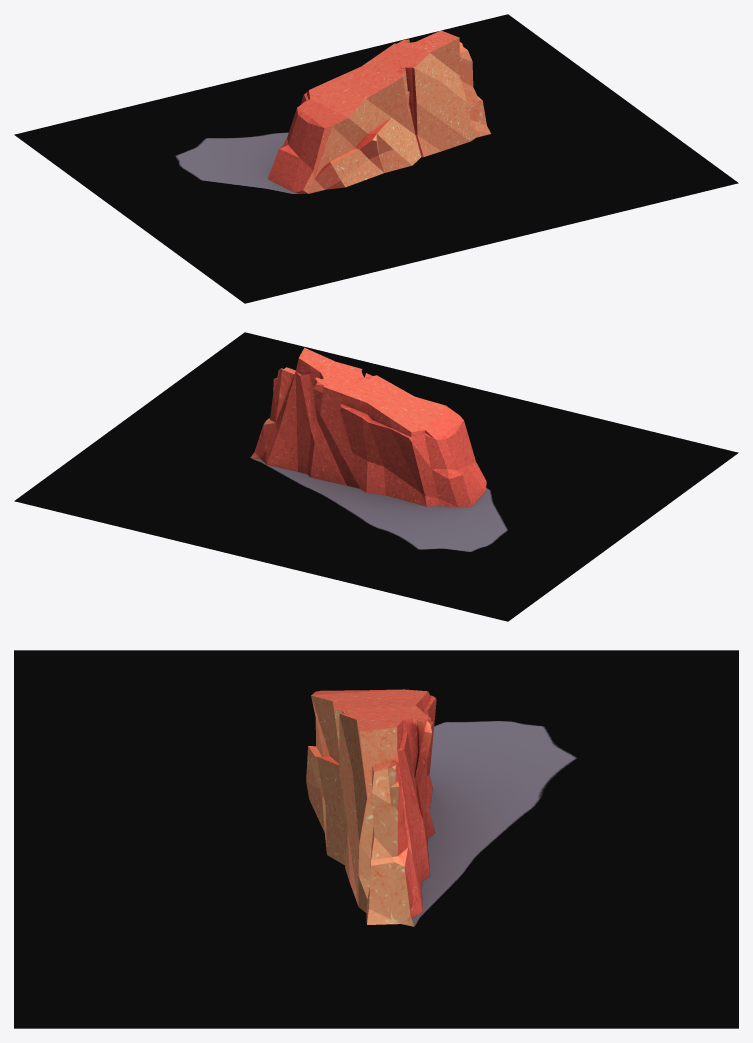
3 views of the same model, one above another, from view 1: azimuth 30°, elevation 25°; view 2: azimuth 150°, elevation 25°; view 3: azimuth 270°, elevation 25° (orthographic). The views are drawn at different scales.
Visible parts, largest first — view 1: Shadow, Rock; view 2: Shadow, Rock; view 3: Shadow, Rock.
Part boxes in pixels (x1,y1,x2,y2): Shadow: (14,14,738,303); Rock: (268,30,490,193); Shadow: (14,332,738,621); Rock: (250,347,486,507); Shadow: (14,650,738,1028); Rock: (306,689,436,926).
Bounding box in the file's own units: 16.05 × 3.3 × 12.99.
Materials: 2 (2 with a texture image).
